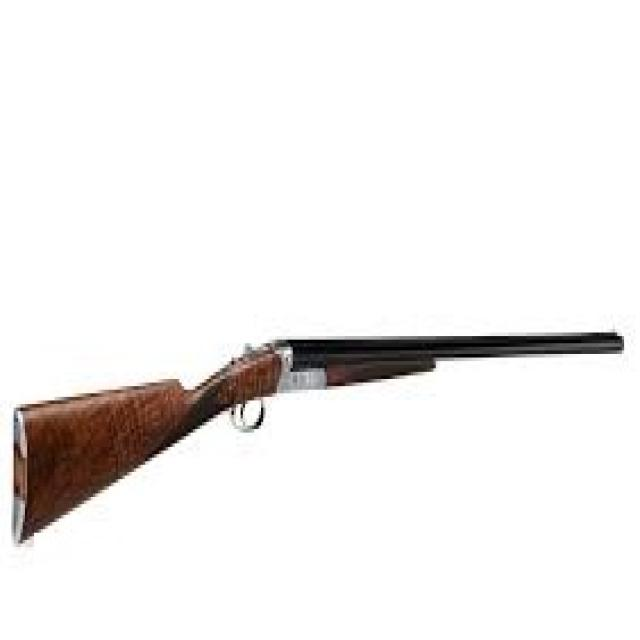rifle: (9, 323, 634, 559)
